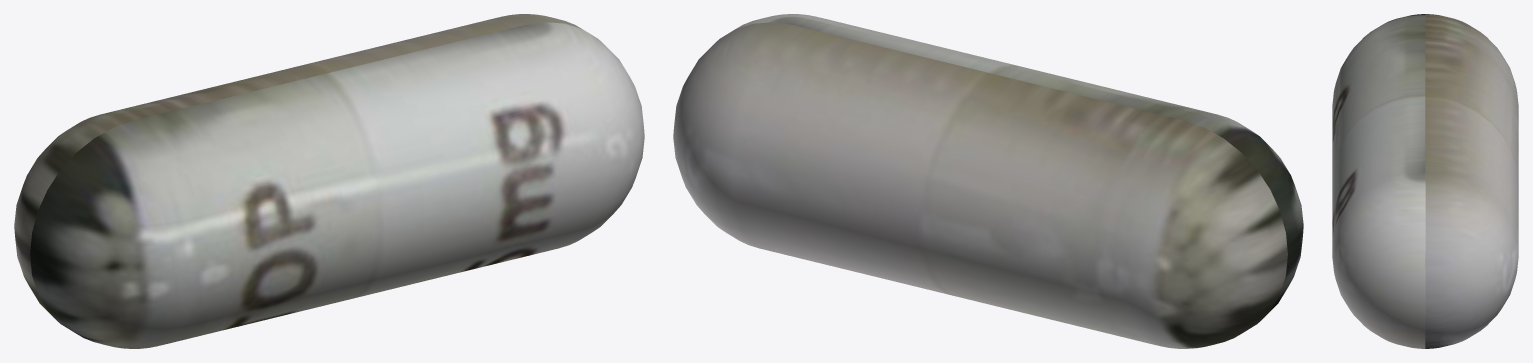
Rendered from 20140311GOPHDRGPT02782.fbx.
3 renders of one model, left to right at view 1: azimuth 30°, elevation 25°; view 2: azimuth 150°, elevation 25°; view 3: azimuth 270°, elevation 25°, orthographic. The views are drawn at different scales.
Parts seen in each view (by area): view 1: Sphere; view 2: Sphere; view 3: Sphere.
Part boxes in pixels (x1,y1,x2,y2): Sphere: [14, 14, 644, 348]; Sphere: [673, 14, 1303, 348]; Sphere: [1332, 14, 1518, 348].
Size of the model in its own units: 1.98 by 0.6856 by 0.6856.
